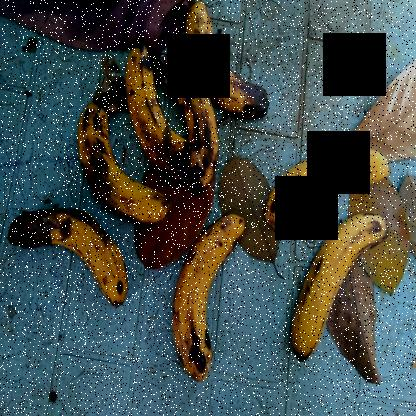overripe: (263, 134, 397, 233), (178, 215, 244, 392)
ripe: (273, 202, 395, 374)
rotten: (1, 204, 139, 311), (70, 98, 163, 240), (124, 37, 207, 188), (188, 7, 285, 131)
